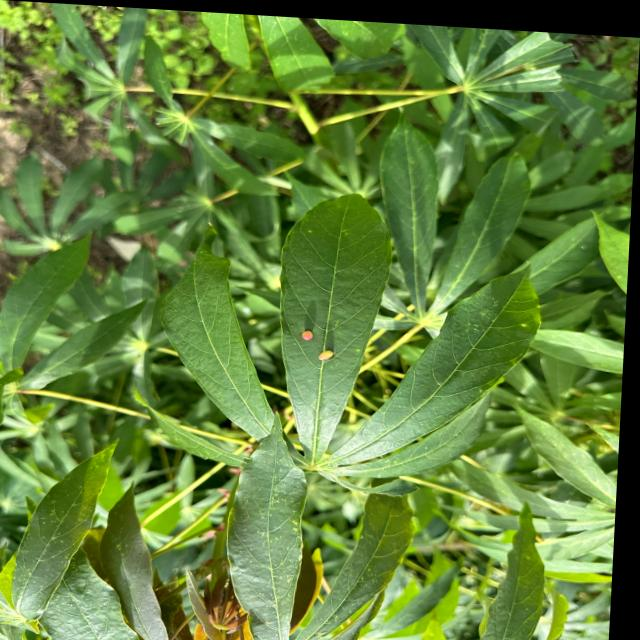Mosca: (291, 321, 324, 345), (315, 342, 345, 368)
